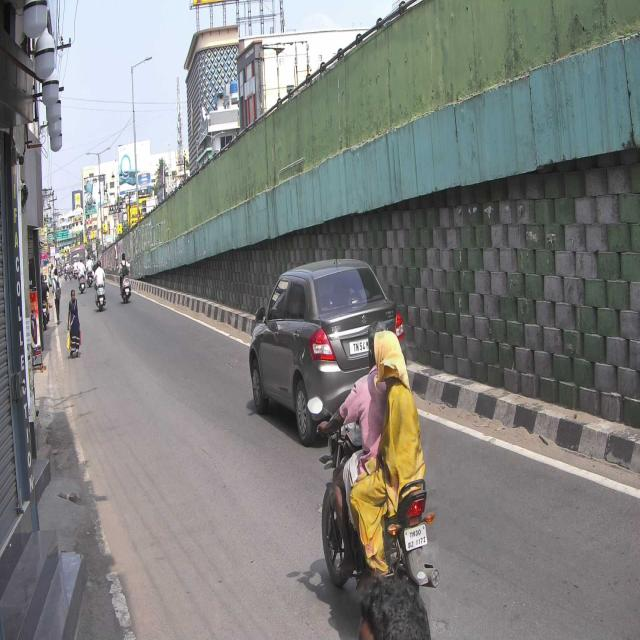double_rider: (313, 320, 440, 606)
